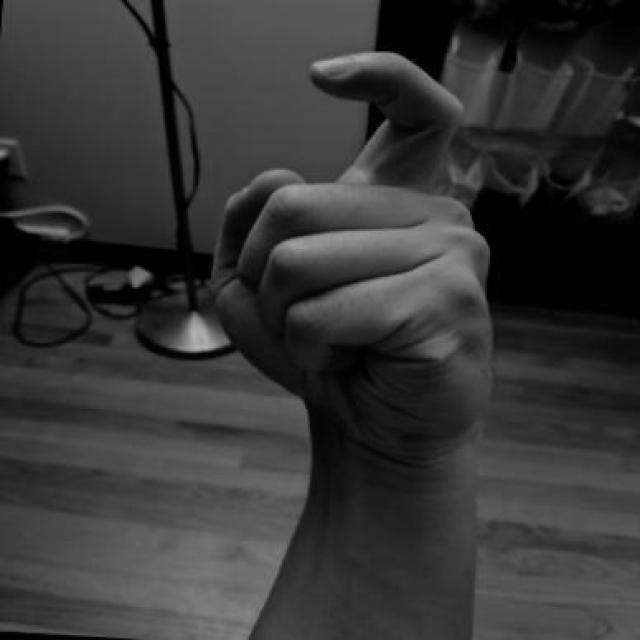X: (192, 34, 526, 454)
